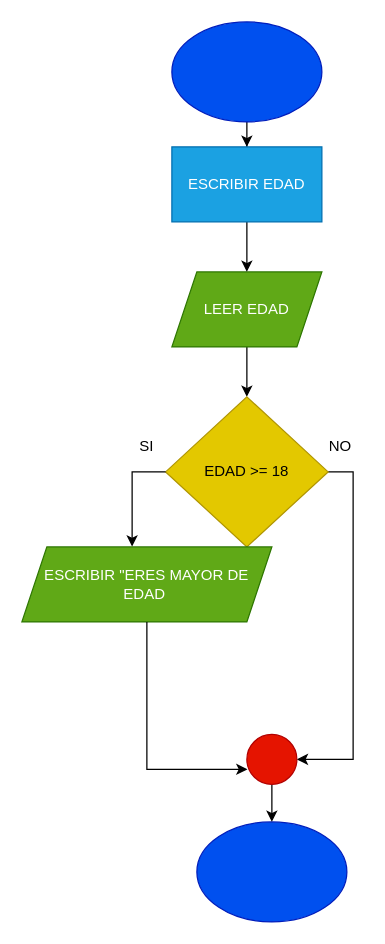
This 385x944 diagram has some shape labels left out. Here are the shapes that lost their labels. From the top down, the centre of each, then its label:
At pixel 246 71: "INICIO".
At pixel 271 871: "FINAL".
